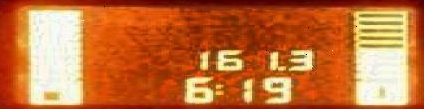-: (275, 63, 283, 71)
1: (236, 76, 254, 101), (192, 49, 213, 70), (260, 48, 278, 71)
3: (286, 47, 312, 71)
6: (176, 74, 210, 104), (213, 47, 241, 70)
9: (257, 75, 291, 102)
X: (213, 81, 223, 96)
